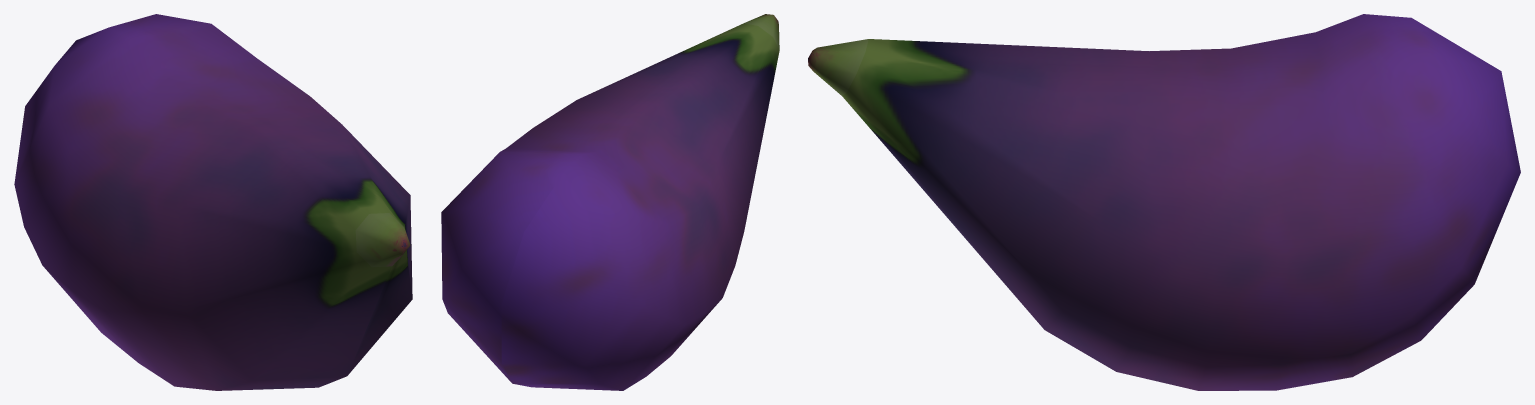
File: fant_eggplant.fbx
3 renders of one model, left to right at view 1: azimuth 30°, elevation 25°; view 2: azimuth 150°, elevation 25°; view 3: azimuth 270°, elevation 25°, orthographic. The views are drawn at different scales.
Visible parts, largest first — view 1: eatable_eggplant; view 2: eatable_eggplant; view 3: eatable_eggplant.
Part boxes in pixels (bbox=[...]): eatable_eggplant: bbox=[14, 14, 412, 390]; eatable_eggplant: bbox=[441, 14, 779, 390]; eatable_eggplant: bbox=[808, 14, 1520, 390].
Bounding box in the file's own units: 154 × 155 × 296.
